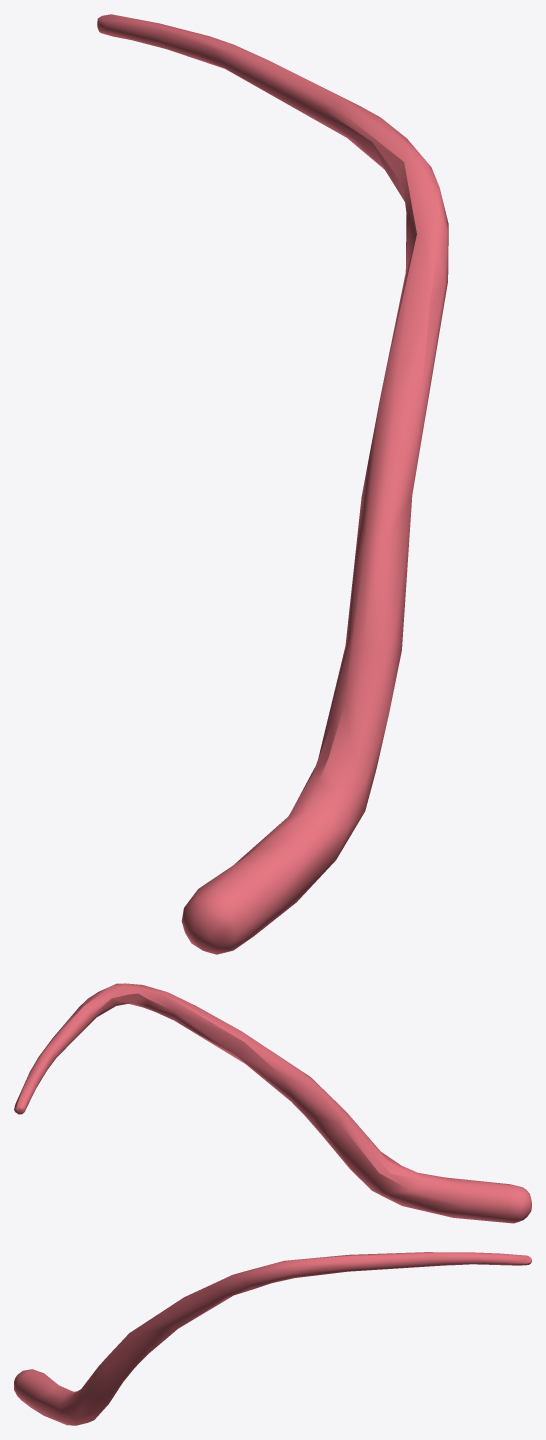
Rendered from fma70455_fj3077.glb.
3 views of the same model, one above another, from view 1: azimuth 30°, elevation 25°; view 2: azimuth 150°, elevation 25°; view 3: azimuth 270°, elevation 25° (orthographic). The views are drawn at different scales.
Parts seen in each view (by area): view 1: FMA70455_FJ3077; view 2: FMA70455_FJ3077; view 3: FMA70455_FJ3077.
Part boxes in pixels (x1,y1,x2,y2): FMA70455_FJ3077: (97, 14, 448, 954); FMA70455_FJ3077: (14, 983, 531, 1223); FMA70455_FJ3077: (14, 1252, 531, 1425).
Bounding box in the file's own units: 0.0204 × 0.02 × 0.0368.
